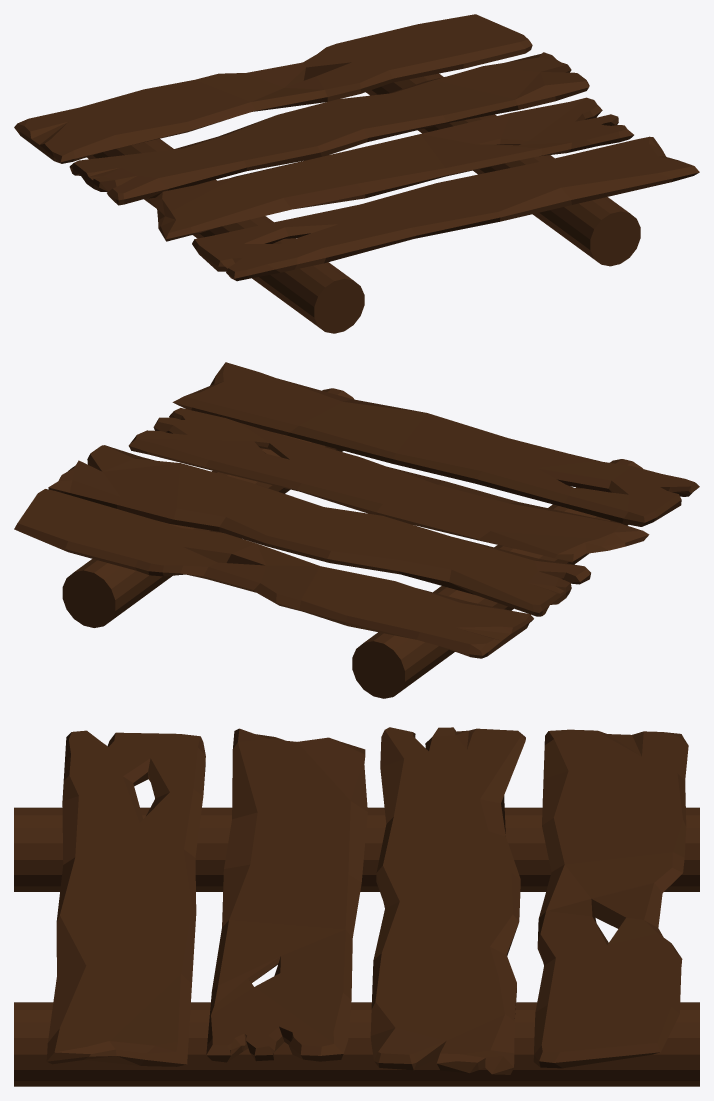
File: BridgeShortPlatform.fbx
The picture shows the model from 3 angles, top to bottom: view 1: azimuth 30°, elevation 25°; view 2: azimuth 150°, elevation 25°; view 3: azimuth 270°, elevation 25°; orthographic projection. The views are drawn at different scales.
Visible parts, largest first — view 1: Planks.Front.001, BridgeShortPlatform; view 2: Planks.Front.001, BridgeShortPlatform; view 3: Planks.Front.001, BridgeShortPlatform.
Boxes of the visible parts, bbox=[...] form: Planks.Front.001: bbox=[14, 14, 699, 281]; BridgeShortPlatform: bbox=[87, 73, 640, 333]; Planks.Front.001: bbox=[14, 362, 699, 658]; BridgeShortPlatform: bbox=[62, 388, 642, 698]; Planks.Front.001: bbox=[46, 727, 688, 1074]; BridgeShortPlatform: bbox=[14, 807, 699, 1086].
Size of the model in its own units: 3.42 by 0.4842 by 2.95.
